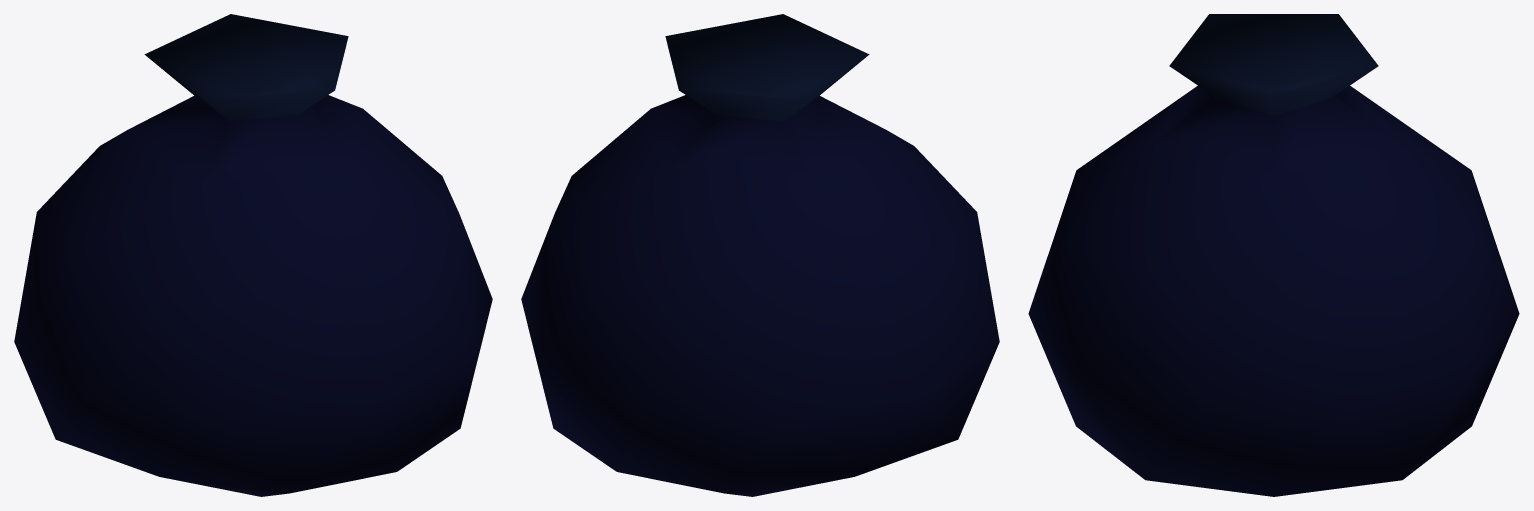
The model's file is TrashBag.fbx.
The picture shows the model from 3 angles, left to right: view 1: azimuth 30°, elevation 25°; view 2: azimuth 150°, elevation 25°; view 3: azimuth 270°, elevation 25°; orthographic projection.
Parts seen in each view (by area): view 1: TrashBag; view 2: TrashBag; view 3: TrashBag.
Boxes of the visible parts, x1,y1,x2,y2 form: TrashBag: (14, 14, 492, 496); TrashBag: (521, 14, 999, 496); TrashBag: (1028, 14, 1519, 496).
Size of the model in its own units: 54.7 by 51.22 by 57.51.
